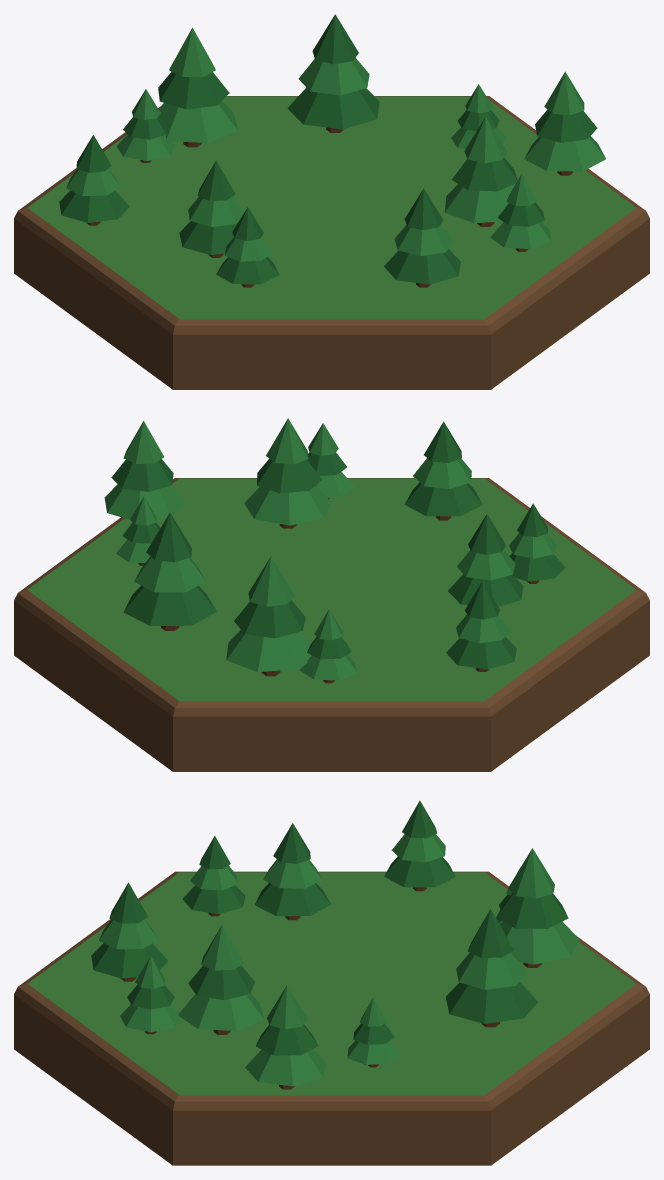
The model's file is tile_forest.glb.
3 renders of one model, top to bottom at view 1: azimuth 30°, elevation 25°; view 2: azimuth 150°, elevation 25°; view 3: azimuth 270°, elevation 25°, orthographic.
Parts seen in each view (by area): view 1: tile_forest; view 2: tile_forest; view 3: tile_forest.
Part boxes in pixels (<box>): tile_forest: <box>14,14,649,389</box>; tile_forest: <box>14,418,649,771</box>; tile_forest: <box>14,800,649,1165</box>.
Size of the model in its own units: 1.7 by 0.6105 by 1.93.
